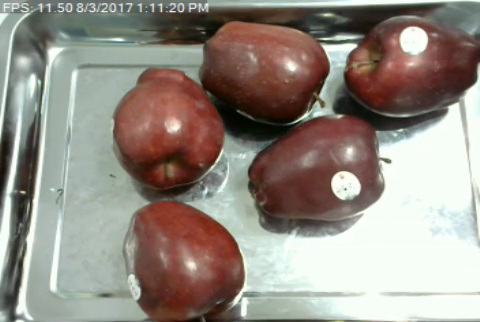Apple: (245, 110, 393, 230), (120, 197, 248, 322), (194, 19, 337, 127), (110, 64, 229, 192), (340, 14, 480, 122)
